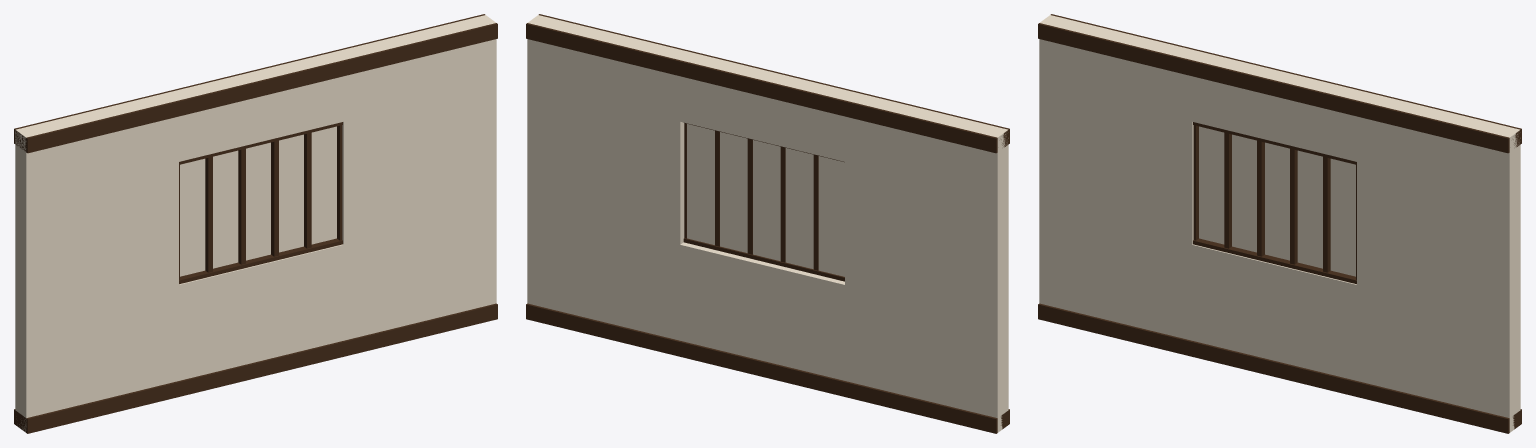
The model's file is hanok_wall_window.glb.
3 renders of one model, left to right at view 1: azimuth 30°, elevation 25°; view 2: azimuth 150°, elevation 25°; view 3: azimuth 330°, elevation 25°, orthographic.
Parts seen in each view (by area): view 1: hanok_wall_window; view 2: hanok_wall_window; view 3: hanok_wall_window.
Boxes of the visible parts, left/top/right/bottom form: hanok_wall_window: left=14, top=14, right=497, bottom=433; hanok_wall_window: left=526, top=14, right=1009, bottom=433; hanok_wall_window: left=1038, top=14, right=1521, bottom=433.
Bounding box in the file's own units: 4 × 2.4 × 0.2.
